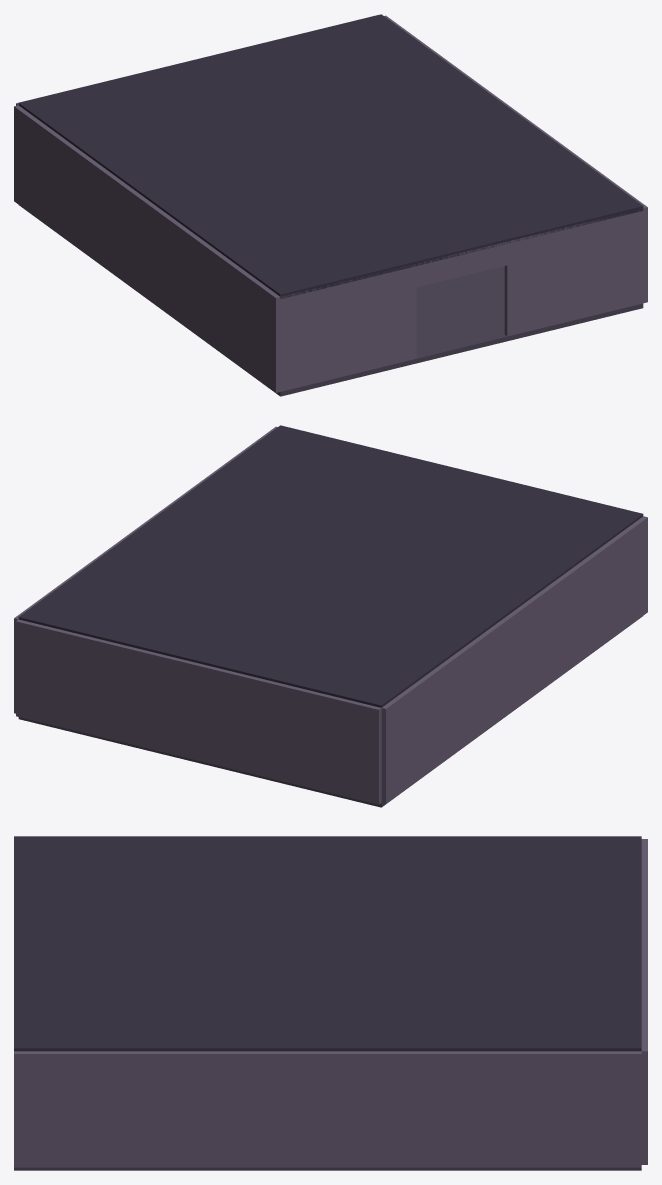
The model's file is club_room.obj.
The picture shows the model from 3 angles, top to bottom: view 1: azimuth 30°, elevation 25°; view 2: azimuth 150°, elevation 25°; view 3: azimuth 270°, elevation 25°; orthographic projection. The views are drawn at different scales.
Bounding box in the file's own units: 16.4 × 4.3 × 20.2.
